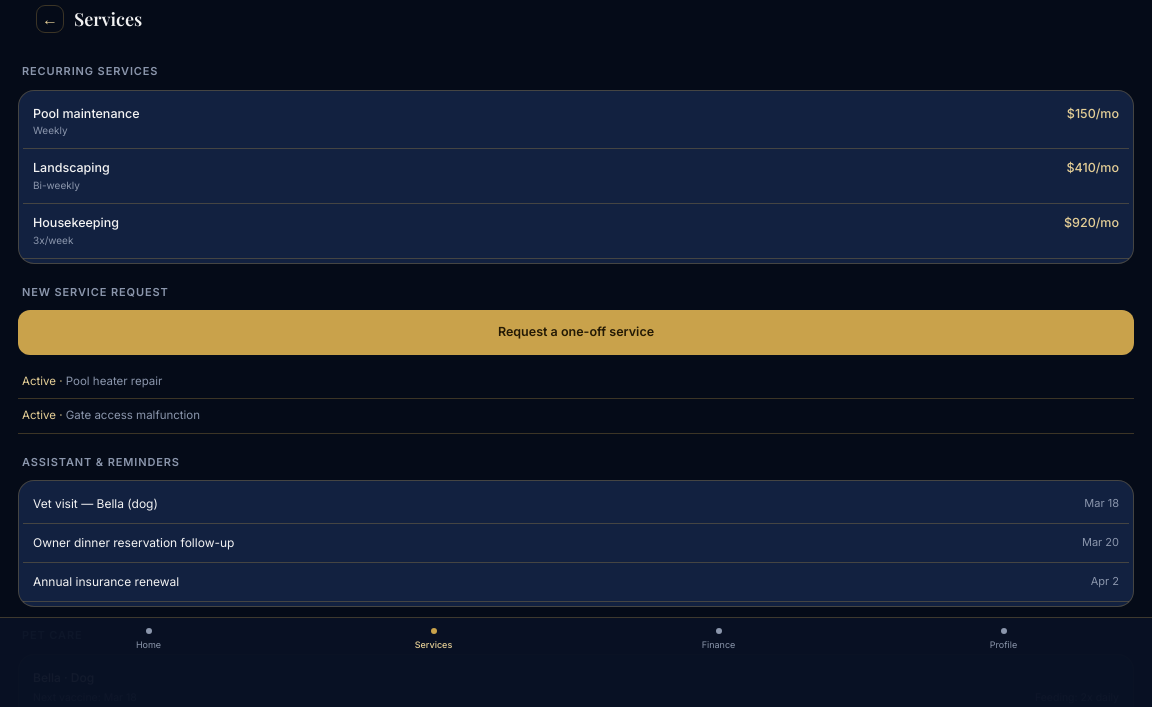
Scenario: regression: Owner Home 'Active requests' must reflect real submissions › increments Home's counter after submitting a request on Services
Click the button "Request a one-off service" at (576, 333), box top-left (18, 310), bottom-right (1134, 355)
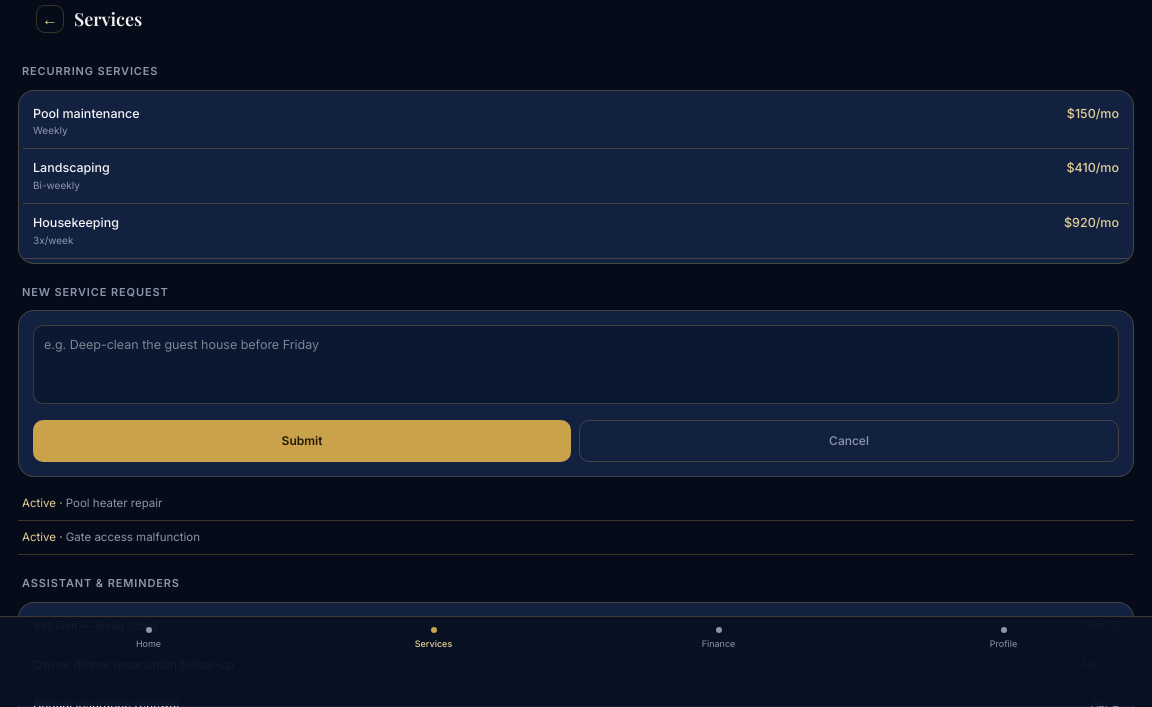
Type "Fix the pool gate lock" into the text box with placeholder "e.g. Deep-clean the guest house before Friday" at (576, 364), box top-left (33, 325), bottom-right (1119, 404)
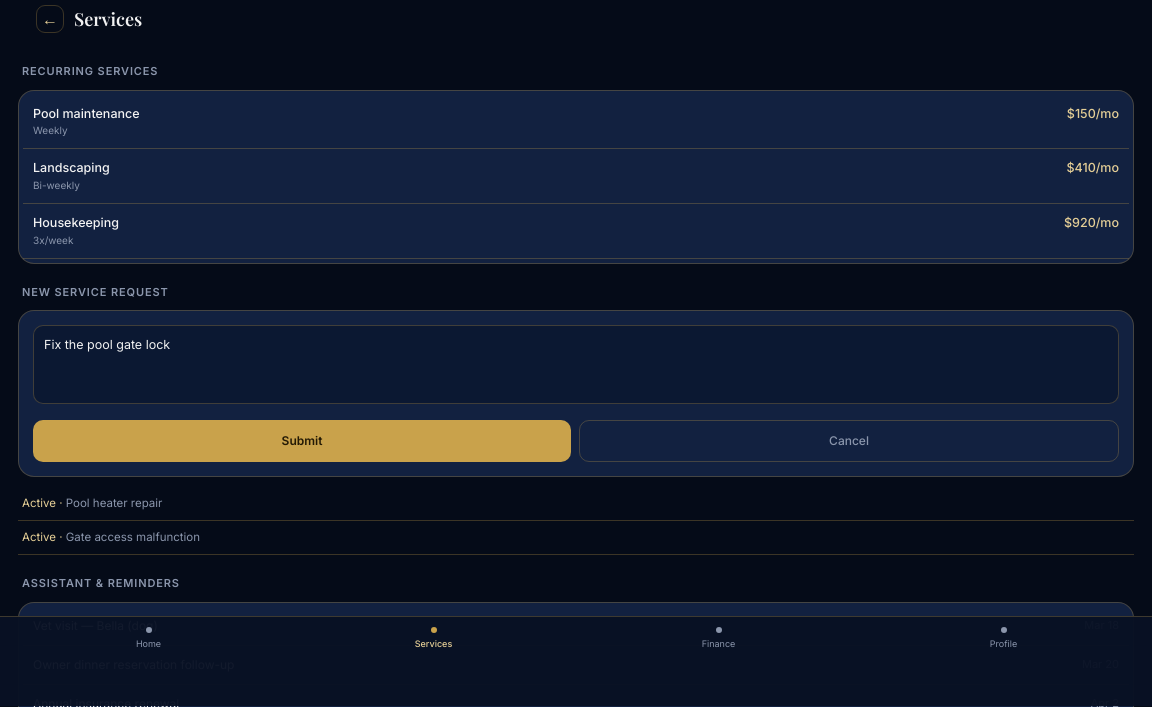
Click the button "Submit" at (302, 440), box top-left (33, 420), bottom-right (571, 462)
(page scrolled)
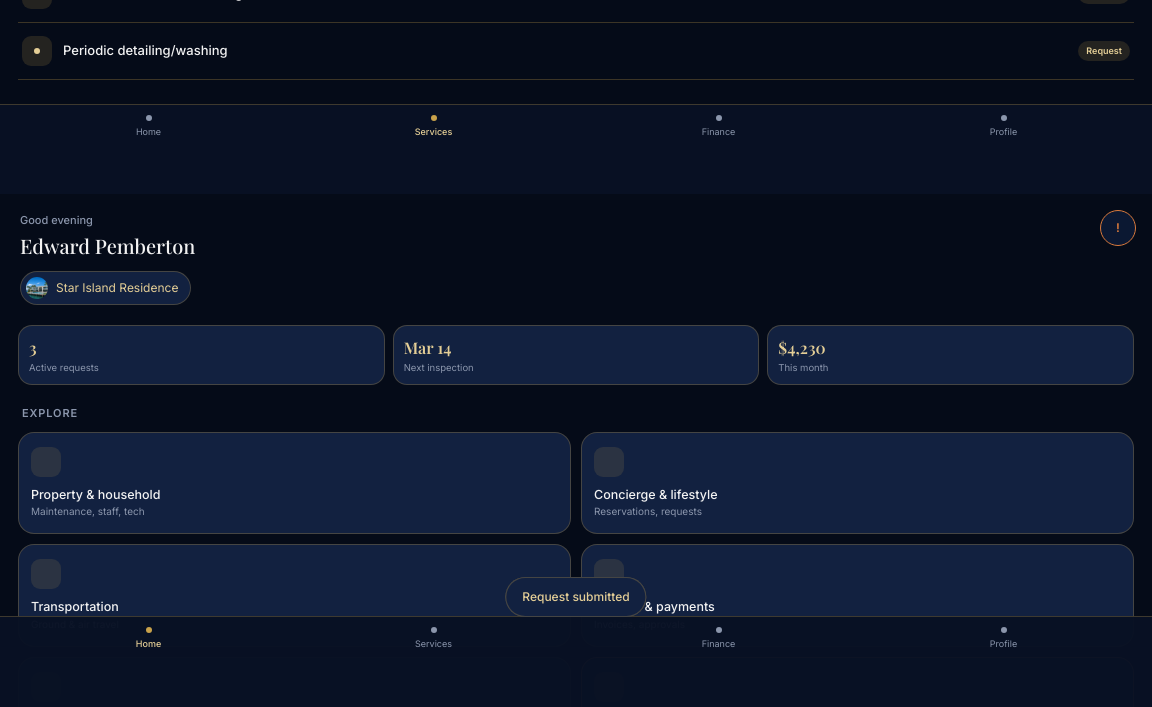
Expected: the text "3" is shown, top-left (29, 337), bottom-right (37, 358)
